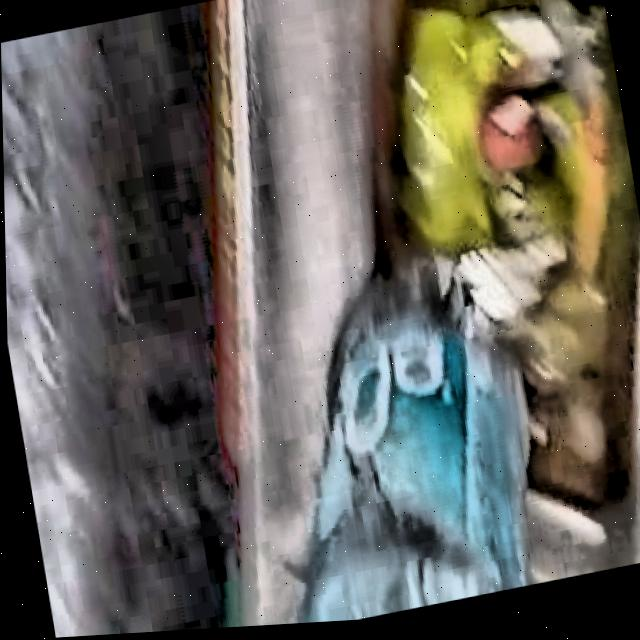plastic: (295, 281, 524, 627)
